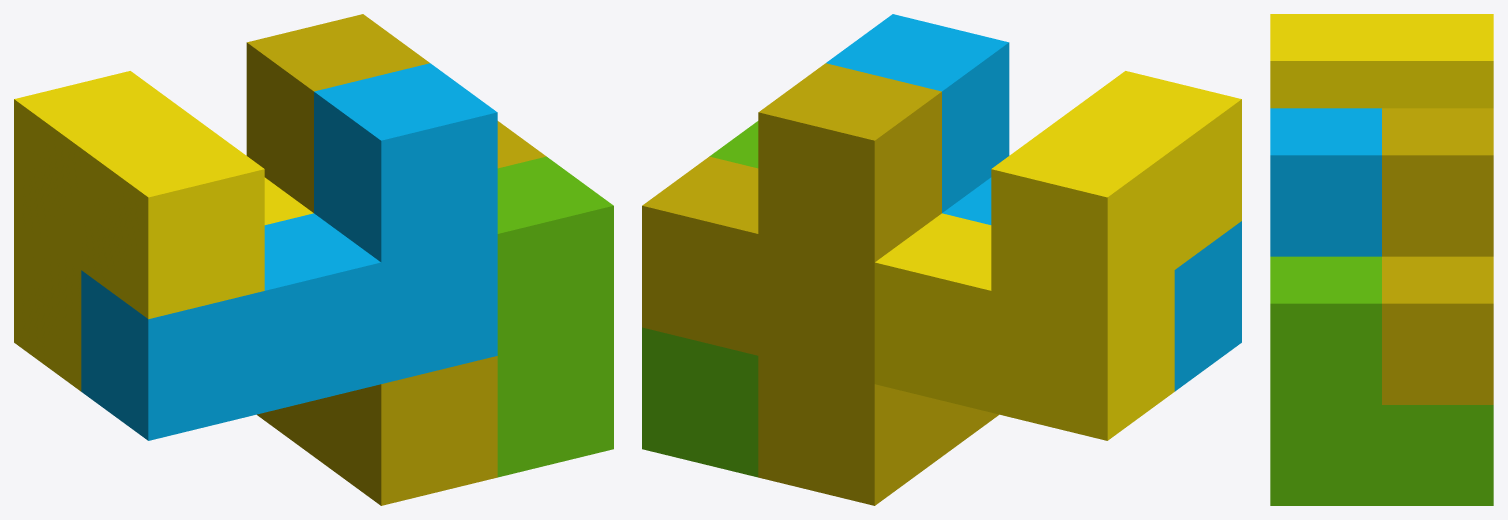
3 renders of one model, left to right at view 1: azimuth 30°, elevation 25°; view 2: azimuth 150°, elevation 25°; view 3: azimuth 270°, elevation 25°, orthographic. The views are drawn at different scales.
Parts seen in each view (by area): view 1: mergedBlocks(Clone); view 2: mergedBlocks(Clone); view 3: mergedBlocks(Clone).
Boxes of the visible parts, bbox=[...] form: mergedBlocks(Clone): bbox=[14, 14, 613, 505]; mergedBlocks(Clone): bbox=[642, 14, 1241, 505]; mergedBlocks(Clone): bbox=[1270, 14, 1493, 505].
Size of the model in its own units: 4 by 3 by 2.
4 materials, 4 textured.
